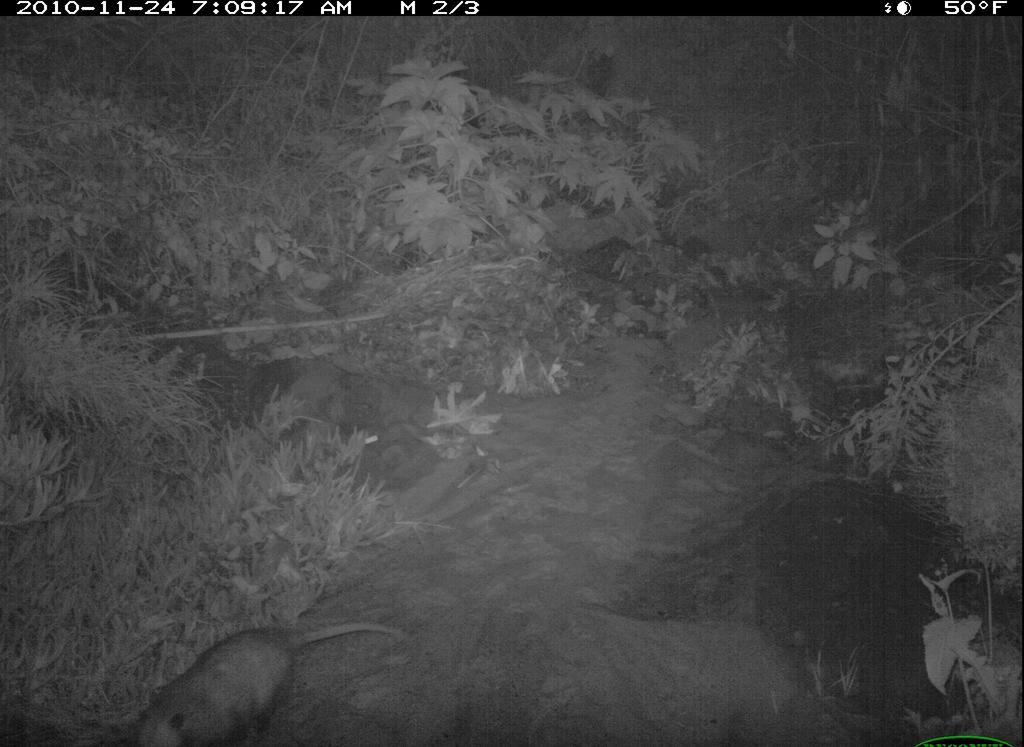opossum: (112, 603, 409, 747)
